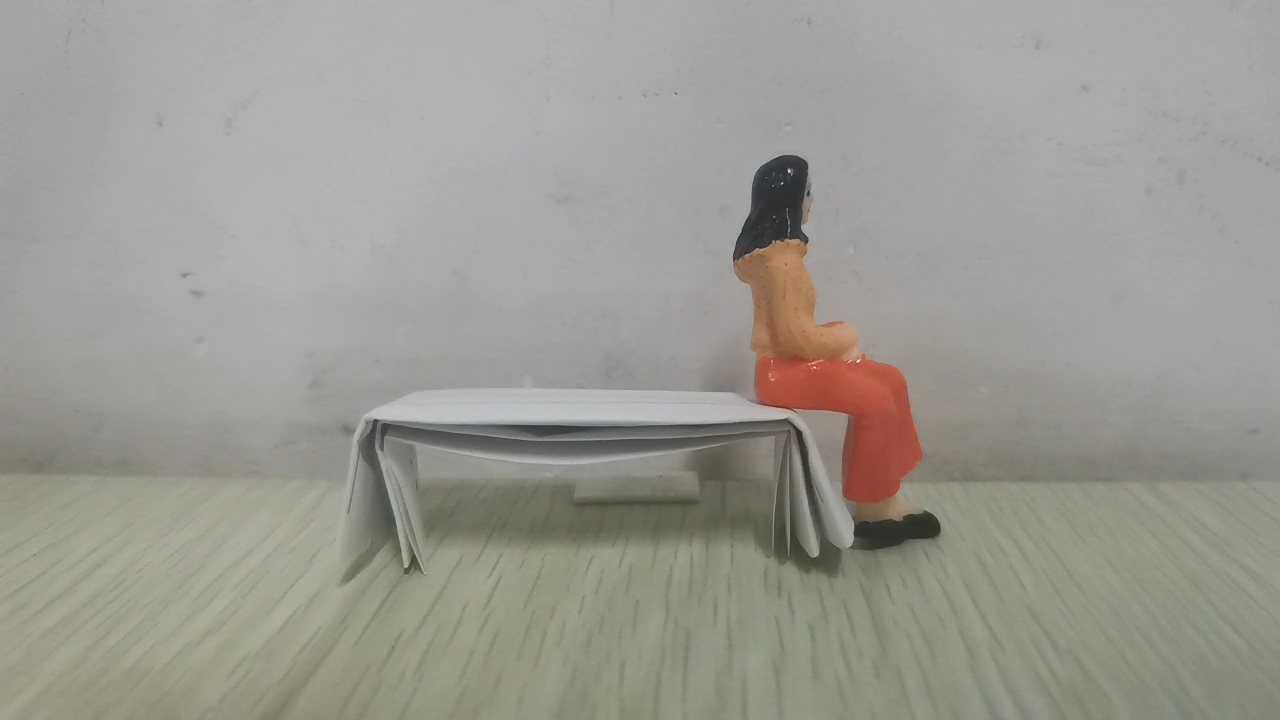person: (730, 152, 943, 548)
